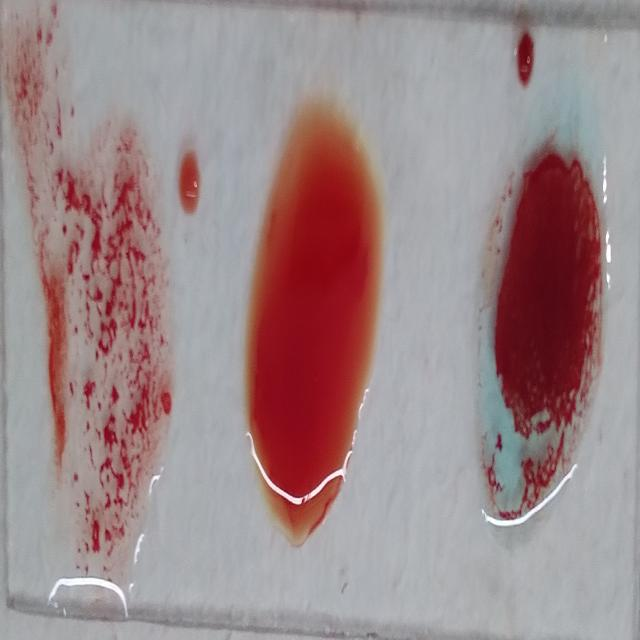A: (473, 144, 605, 532)
D: (36, 139, 174, 583)
